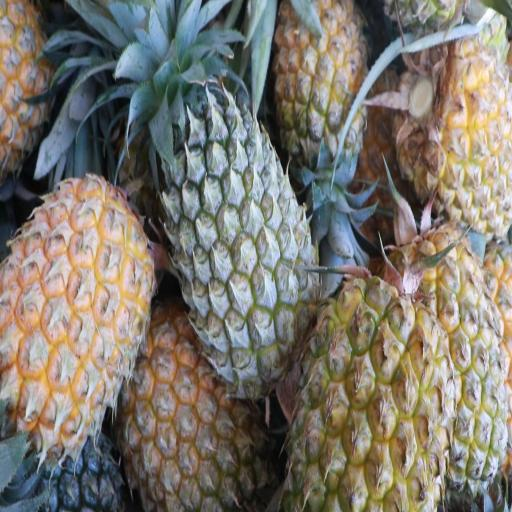------------------------------: (272, 0, 369, 204)
Pineapple - v8 v1: (0, 180, 149, 442), (287, 278, 445, 512), (386, 238, 507, 490), (116, 323, 275, 508), (386, 30, 511, 230)
